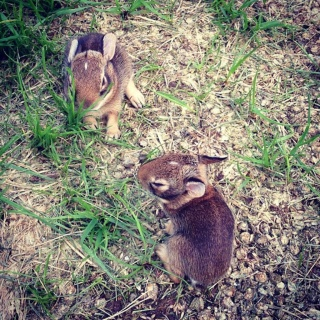Squirrel: (133, 150, 238, 289), (60, 29, 147, 147)
